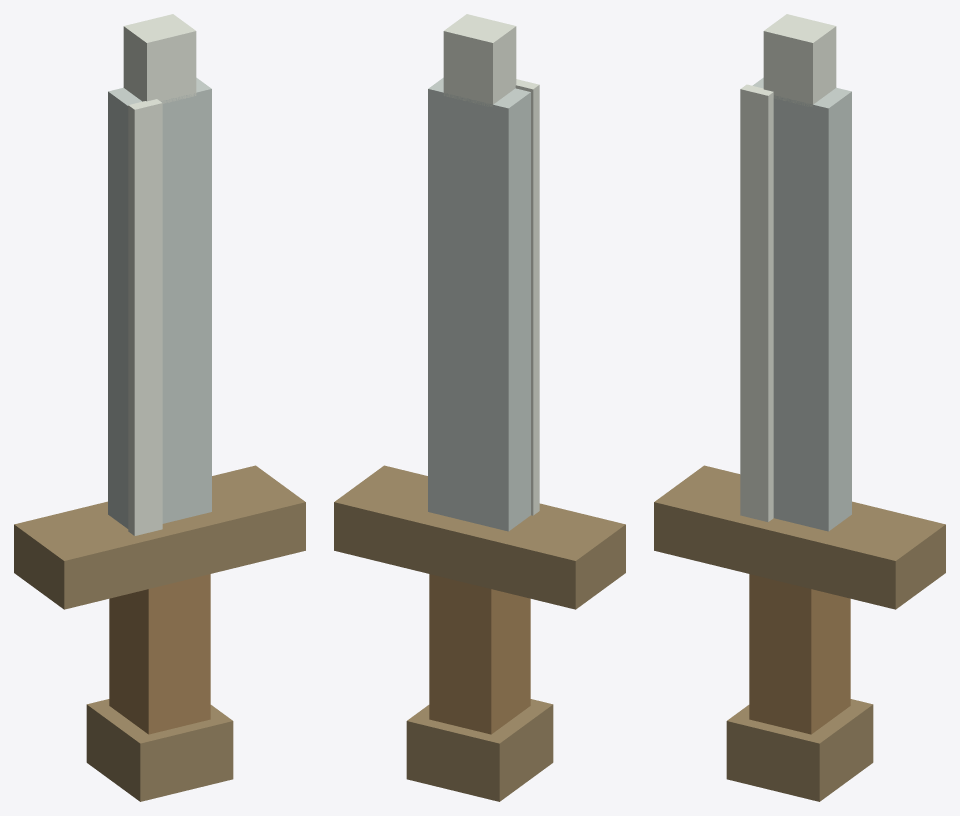
The model's file is sword.glb.
3 renders of one model, left to right at view 1: azimuth 30°, elevation 25°; view 2: azimuth 150°, elevation 25°; view 3: azimuth 330°, elevation 25°, orthographic.
Visible parts, largest first — view 1: blade, guard, edge, grip.001, pommel, tip; view 2: blade, guard, grip.001, pommel, tip, edge; view 3: blade, guard, edge, grip.001, pommel, tip.
Boxes of the visible parts, x1,y1,x2,y2 form: blade: (108, 77, 211, 528); guard: (14, 465, 305, 609); edge: (128, 99, 162, 535); grip.001: (109, 574, 210, 734); pommel: (86, 699, 233, 801); tip: (123, 14, 196, 103); blade: (428, 77, 530, 531); guard: (334, 465, 625, 609); grip.001: (429, 574, 530, 734); pommel: (406, 699, 553, 801); tip: (443, 14, 516, 106); edge: (515, 79, 539, 515); blade: (752, 77, 851, 531); guard: (654, 465, 945, 609); edge: (740, 84, 773, 521); grip.001: (749, 574, 850, 734); pommel: (726, 699, 873, 801); tip: (763, 14, 836, 106).
Bounding box in the file's own units: 0.39 × 1.15 × 0.15.
